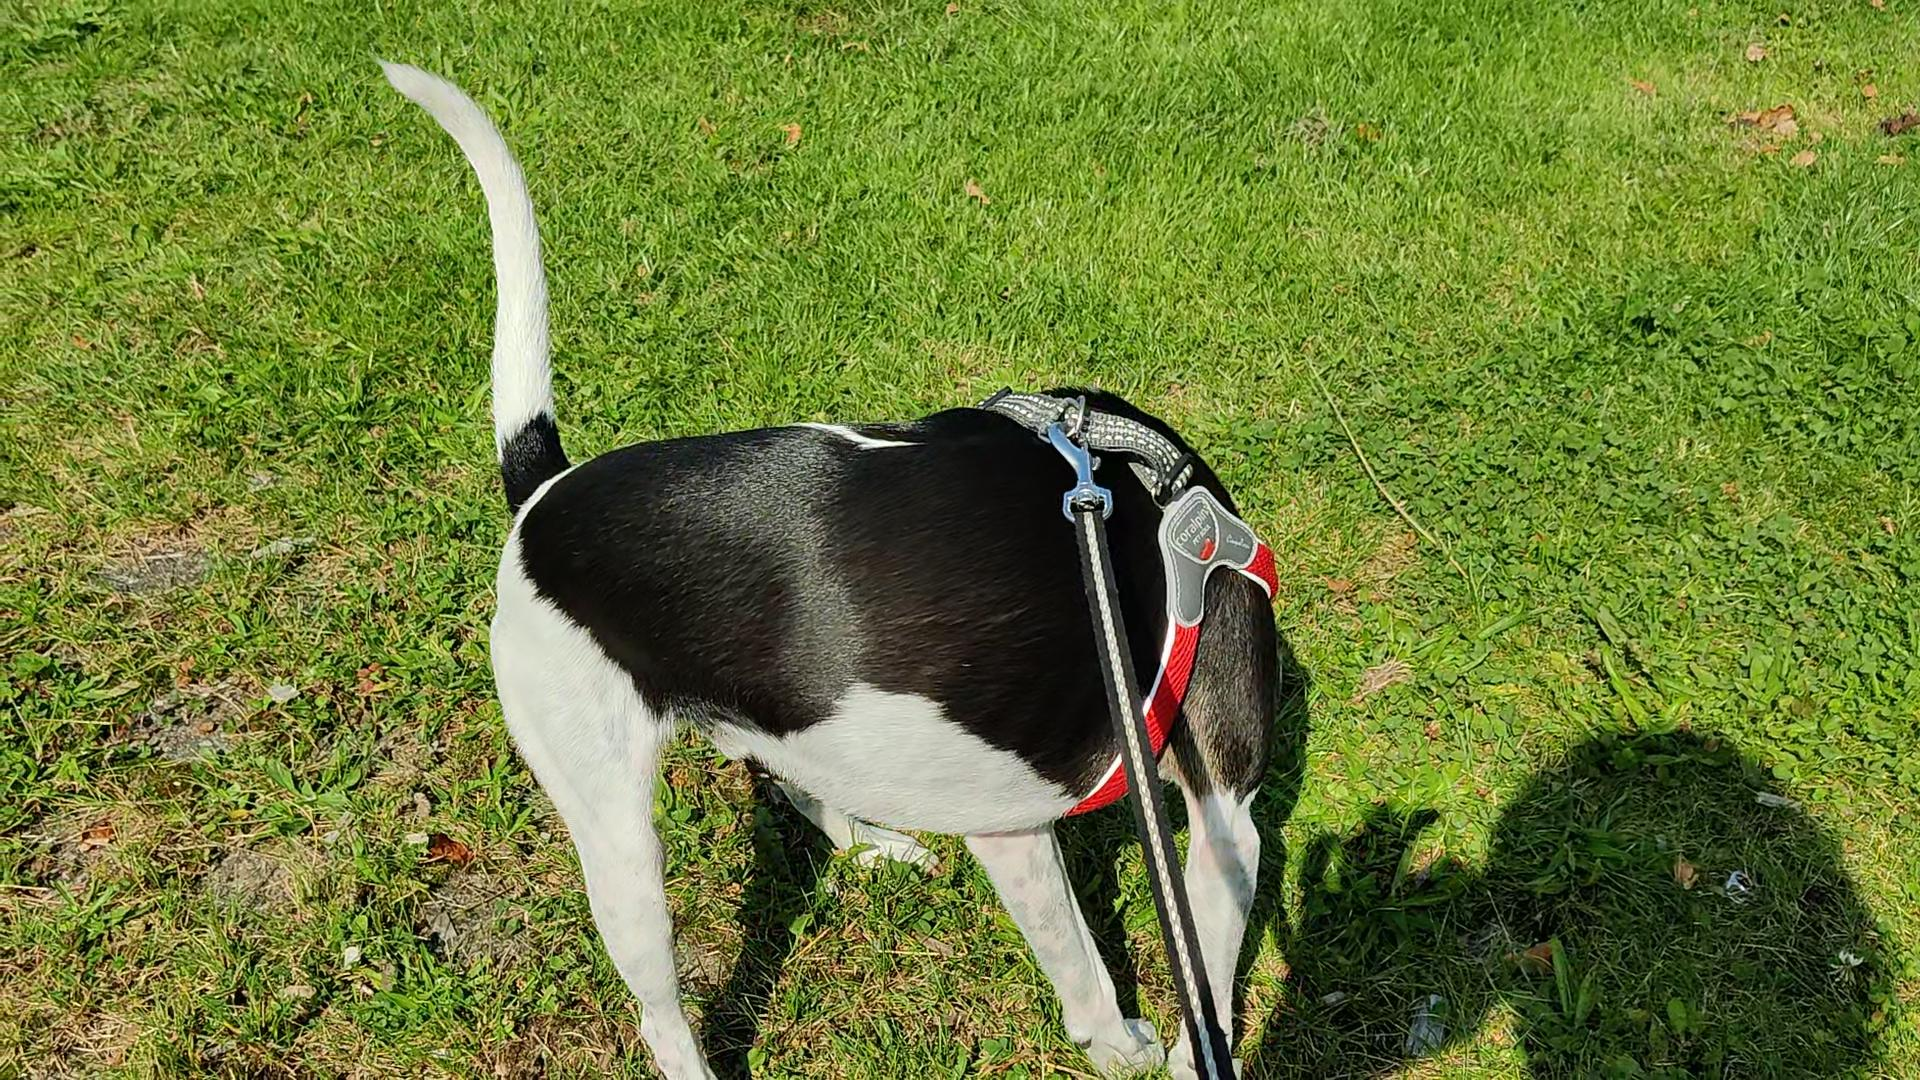Dog: (367, 46, 1284, 1079)
